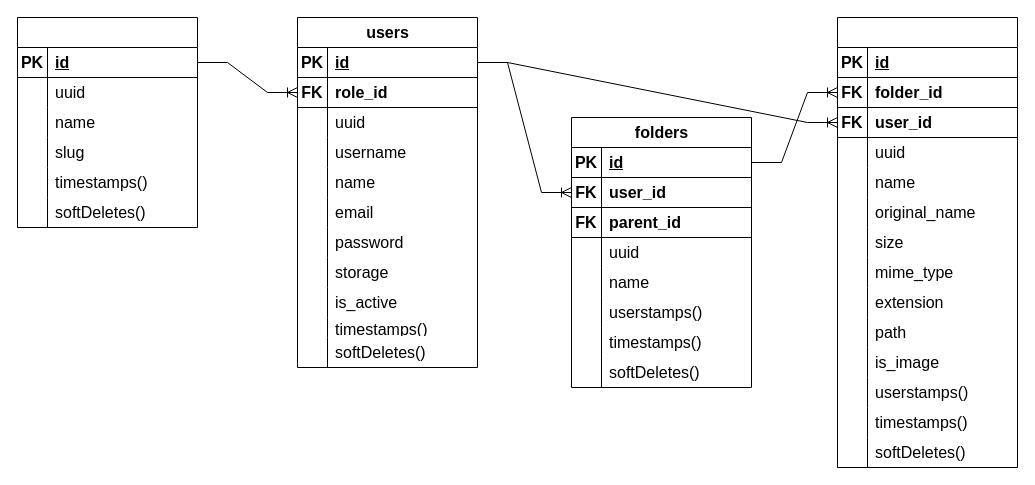
This 1035x485 diagram has some shape labels left out. Here are the shapes that lost their labels. From the top down, the box of each, then its label:
(16, 16, 198, 228): roles
(836, 16, 1018, 468): files
